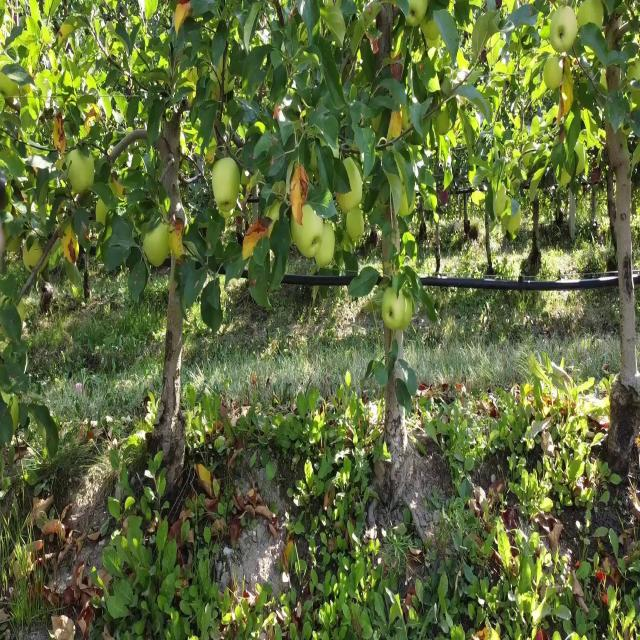apple: (290, 204, 324, 258), (336, 155, 362, 211), (212, 163, 241, 208), (144, 227, 169, 270), (557, 7, 579, 52), (72, 156, 96, 194), (578, 0, 604, 29), (544, 56, 563, 92), (148, 241, 169, 270), (406, 0, 428, 27), (316, 241, 336, 270), (24, 241, 44, 270), (348, 213, 364, 244), (400, 191, 416, 219), (96, 199, 108, 228), (472, 191, 480, 206), (468, 170, 476, 183), (496, 127, 504, 139), (480, 191, 487, 204), (432, 199, 438, 212), (436, 213, 440, 224)
